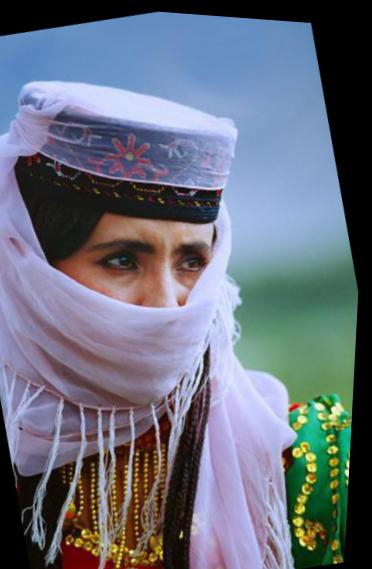WRONG: (46, 187, 251, 411)
